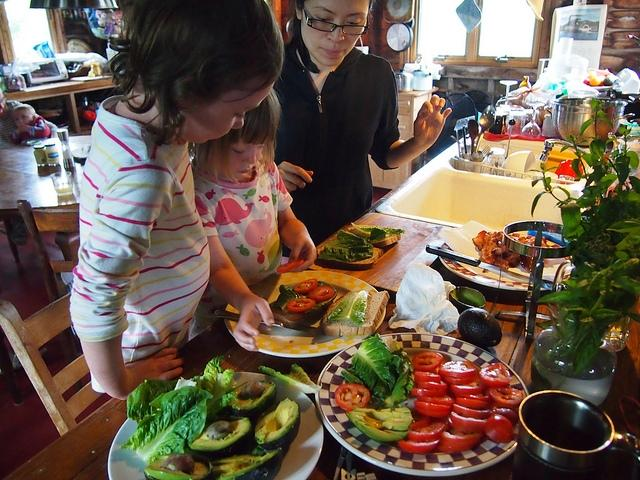avocado: (206, 447, 282, 480), (188, 418, 252, 456), (254, 398, 300, 450), (224, 380, 278, 418), (144, 452, 213, 480), (458, 307, 502, 347), (386, 418, 412, 422)
tomato: (406, 416, 451, 442), (334, 384, 370, 410), (484, 414, 514, 443), (479, 362, 512, 387), (396, 436, 440, 454), (489, 386, 523, 408), (438, 360, 478, 378), (411, 352, 443, 372), (447, 418, 484, 434), (452, 404, 493, 418), (408, 409, 434, 430), (308, 285, 336, 304), (450, 381, 487, 394), (414, 400, 453, 412), (276, 258, 306, 273), (416, 396, 456, 407), (414, 406, 450, 418), (438, 373, 477, 384), (293, 278, 318, 294), (288, 298, 316, 312), (414, 370, 441, 384), (455, 398, 488, 409), (414, 380, 448, 390), (492, 402, 518, 414), (412, 388, 446, 397)
